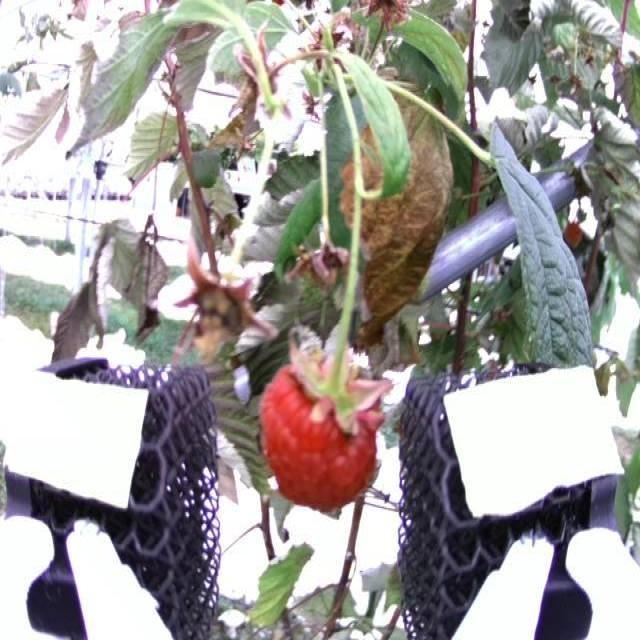Riped berries: (256, 344, 392, 515)
